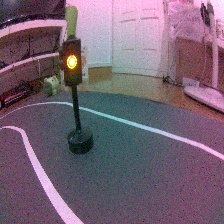amber: (58, 34, 98, 155)
